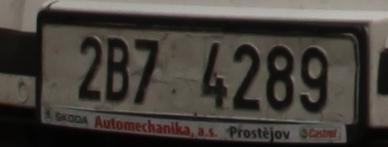2: (233, 45, 260, 111), (80, 36, 100, 102)
4: (201, 42, 228, 109)
7: (134, 39, 158, 104)
8: (267, 45, 293, 111)
9: (301, 46, 327, 113)
B: (105, 37, 129, 101)
